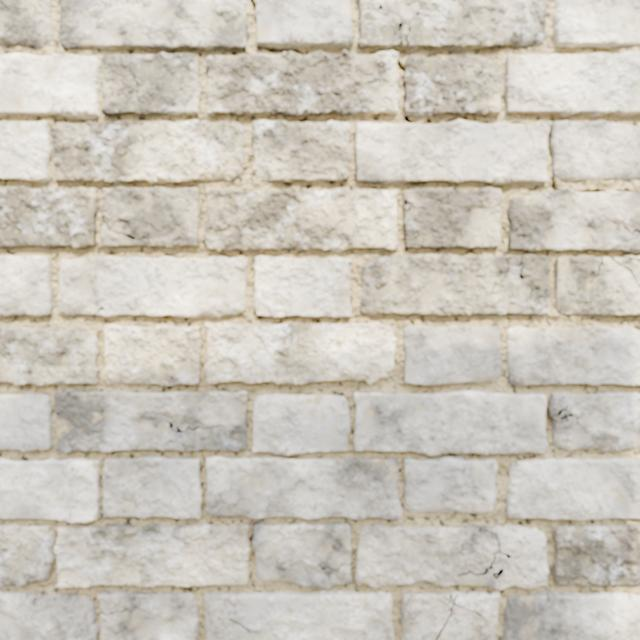crack: (206, 0, 639, 253), (355, 524, 548, 639), (0, 120, 245, 184), (54, 523, 250, 588), (353, 390, 547, 455), (206, 456, 401, 520), (204, 188, 398, 252), (54, 390, 247, 453), (360, 254, 552, 316), (204, 322, 395, 384), (58, 256, 247, 318), (59, 0, 247, 52), (205, 591, 394, 639), (504, 52, 639, 116), (507, 457, 639, 520), (506, 325, 639, 385), (252, 520, 351, 589), (502, 590, 639, 639), (0, 53, 100, 119), (101, 52, 201, 117), (0, 458, 100, 522), (0, 186, 98, 249), (252, 120, 350, 183), (102, 456, 201, 518), (0, 324, 99, 386), (403, 187, 501, 249), (104, 324, 202, 385), (100, 187, 199, 247), (254, 256, 351, 317), (252, 394, 349, 455), (403, 324, 501, 384), (552, 523, 639, 586), (547, 392, 639, 451), (404, 456, 497, 513), (97, 590, 200, 639), (555, 255, 639, 315), (0, 591, 98, 639), (553, 0, 639, 47), (0, 523, 55, 587), (0, 256, 53, 316), (0, 393, 52, 451), (0, 0, 52, 49)
